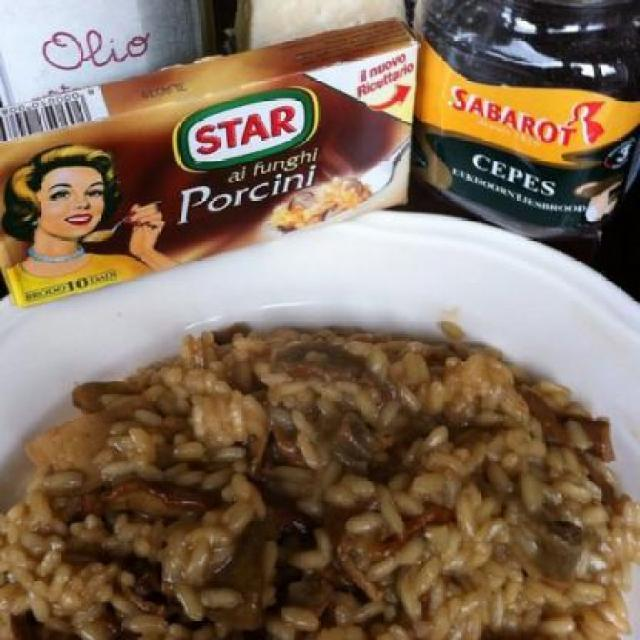Risotto: (5, 324, 630, 638)
